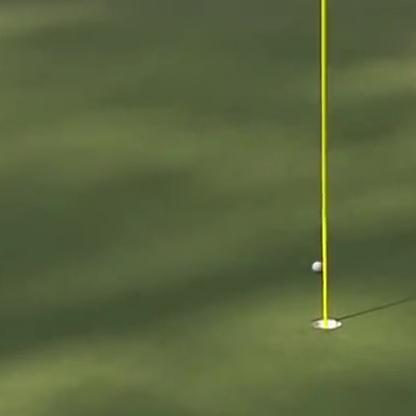golfball: (309, 259, 320, 270)
